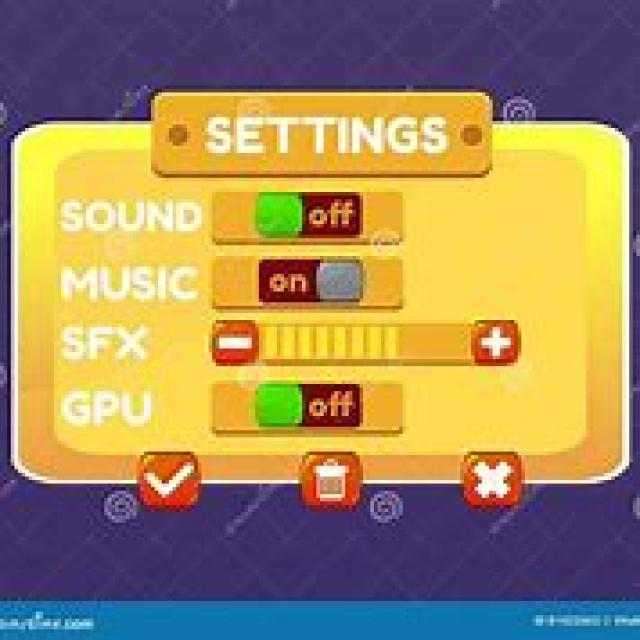button: (298, 448, 366, 508), (138, 449, 204, 510), (460, 445, 524, 506)
label: (200, 110, 453, 156), (57, 256, 207, 305), (58, 192, 205, 236), (57, 320, 154, 366), (60, 384, 156, 430)
slider: (205, 314, 525, 367)
switch: (251, 188, 369, 240), (250, 378, 367, 428), (255, 254, 366, 304)
